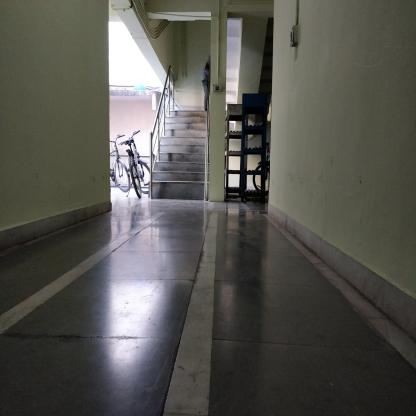stairs: (173, 110, 204, 204)
